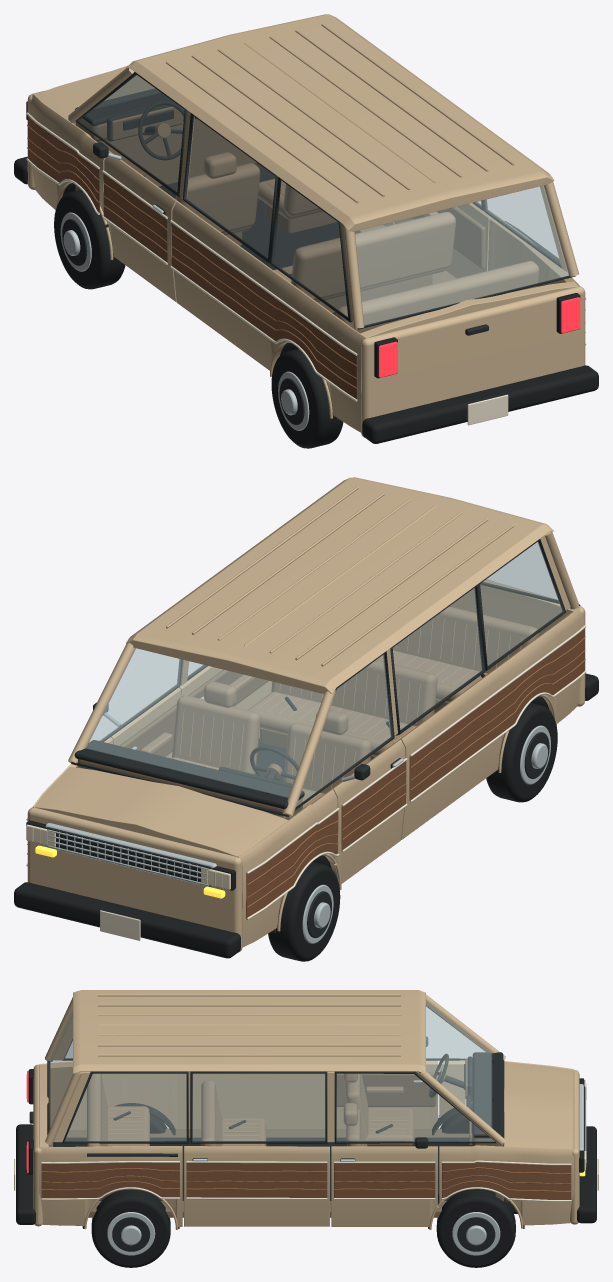
The model's file is Caravan.fbx.
The picture shows the model from 3 angles, top to bottom: view 1: azimuth 30°, elevation 25°; view 2: azimuth 150°, elevation 25°; view 3: azimuth 270°, elevation 25°; orthographic projection. The views are drawn at different scales.
Parts seen in each view (by area): view 1: Caravan; view 2: Caravan; view 3: Caravan.
Boxes of the visible parts, x1,y1,x2,y2 form: Caravan: (14,14,598,448); Caravan: (14,477,598,961); Caravan: (14,990,598,1267).
Bounding box in the file's own units: 226 × 198 × 530.
